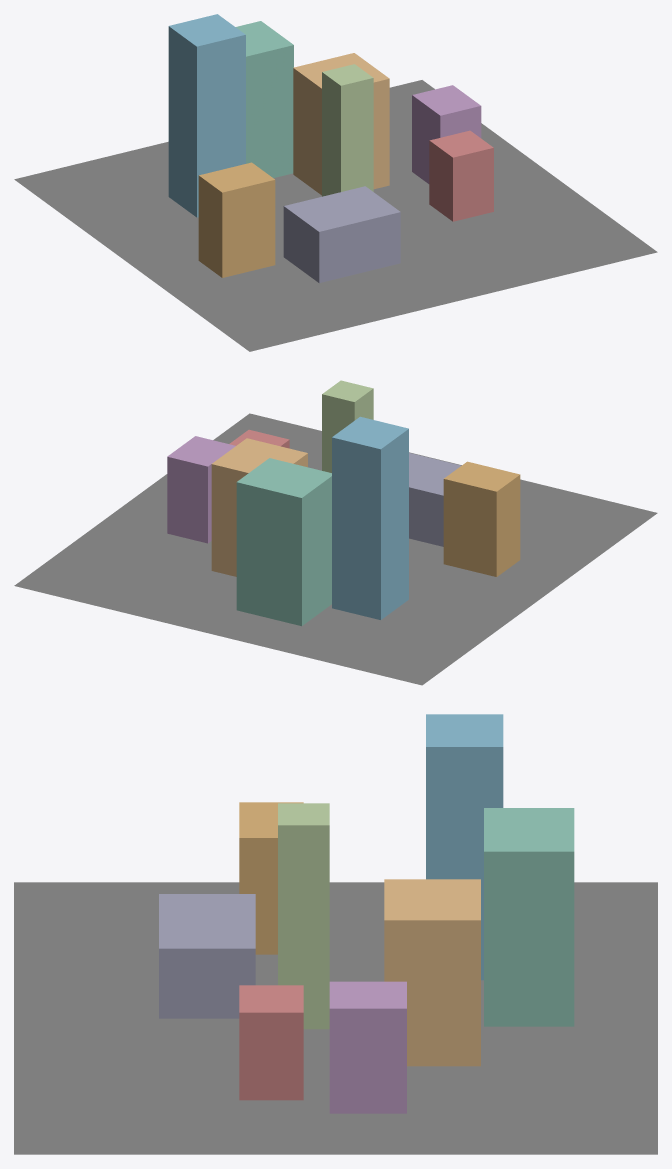
The picture shows the model from 3 angles, top to bottom: view 1: azimuth 30°, elevation 25°; view 2: azimuth 150°, elevation 25°; view 3: azimuth 270°, elevation 25°; orthographic projection. The views are drawn at different scales.
Visible parts, largest first — view 1: Ground, Office Tower, Warehouse, Store, Hospital, Apartment, Residential, Shop, Gallery; view 2: Ground, Office Tower, Hospital, Store, Residential, Gallery, Warehouse, Apartment, Shop; view 3: Ground, Hospital, Residential, Office Tower, Warehouse, Apartment, Gallery, Shop, Store.
Boxes of the visible parts, x1,y1,x2,y2 form: Ground: (14, 80, 657, 351); Office Tower: (168, 14, 245, 217); Warehouse: (283, 186, 400, 282); Store: (198, 162, 275, 277); Hospital: (235, 21, 293, 177); Apartment: (322, 64, 373, 196); Residential: (293, 53, 389, 195); Shop: (429, 130, 493, 221); Gallery: (412, 85, 481, 183); Ground: (14, 413, 657, 685); Office Tower: (332, 416, 408, 619); Hospital: (236, 458, 331, 626); Store: (443, 461, 520, 576); Residential: (211, 438, 307, 576); Gallery: (167, 436, 235, 543); Warehouse: (409, 453, 461, 546); Apartment: (322, 380, 373, 472); Shop: (229, 429, 289, 448); Ground: (14, 882, 657, 1154); Hospital: (484, 808, 574, 1026); Residential: (384, 879, 480, 1066); Office Tower: (426, 714, 503, 980); Warehouse: (159, 894, 255, 1018); Apartment: (278, 803, 329, 1029); Gallery: (329, 981, 406, 1113); Shop: (239, 985, 303, 1100); Store: (239, 802, 303, 954).
Bounding box in the file's own units: 10 × 4 × 10.
